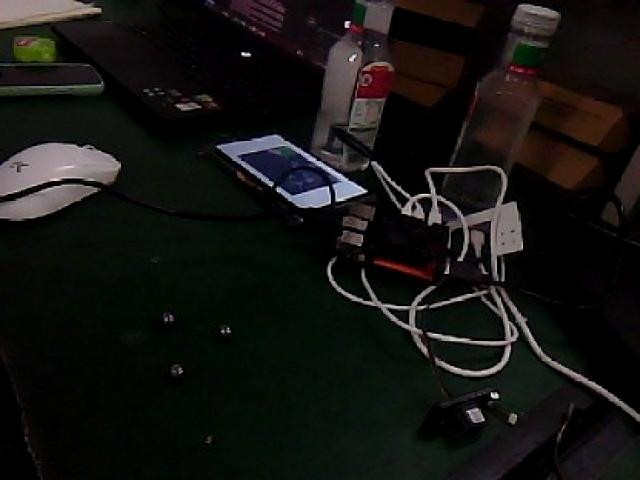steel-ball: (157, 342, 189, 383), (210, 310, 236, 344), (152, 297, 177, 331)
